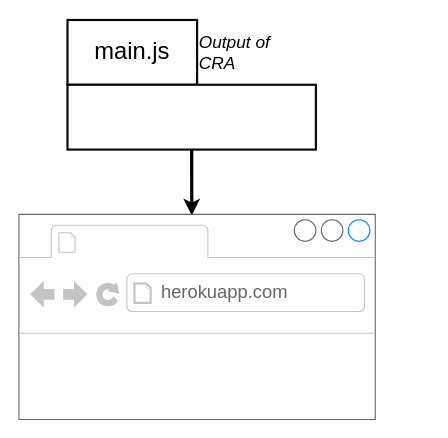
This 448x438 diagram has some shape labels left out. Here are the shapes that lost their labels. From the top down, the centre of each, then its label:
At point (191, 116): "Express Server".
At point (142, 240): "Page 1".
